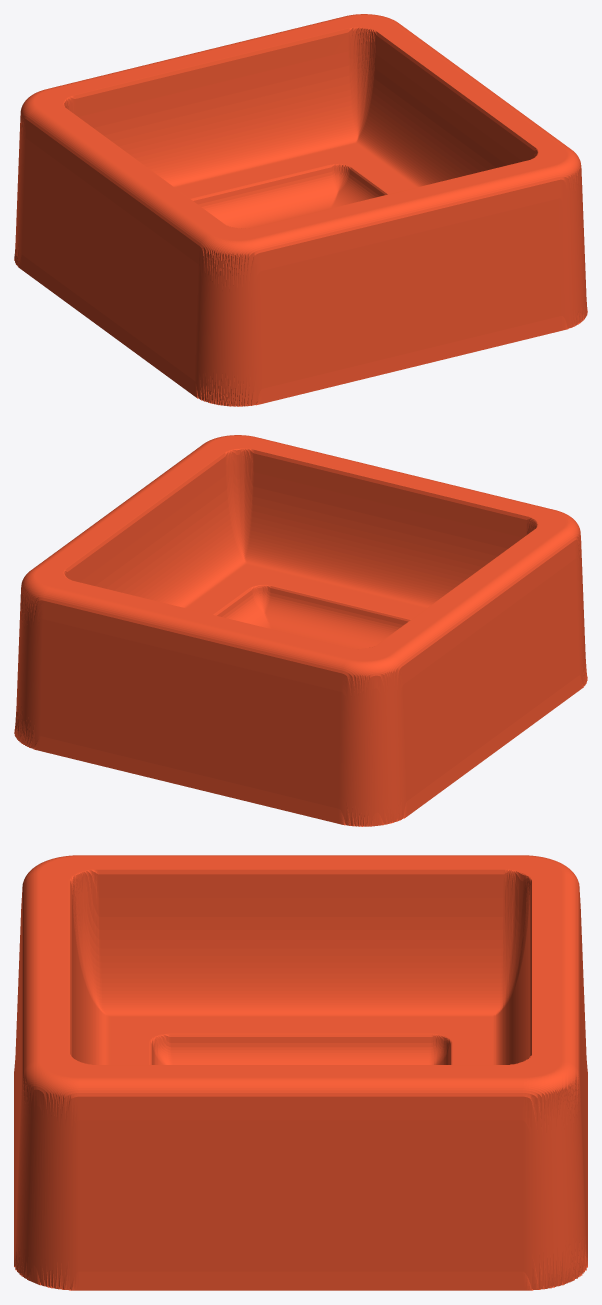
Rendered from mold.glb.
3 renders of one model, top to bottom at view 1: azimuth 30°, elevation 25°; view 2: azimuth 150°, elevation 25°; view 3: azimuth 270°, elevation 25°, orthographic. The views are drawn at different scales.
Visible parts, largest first — view 1: geometry_0; view 2: geometry_0; view 3: geometry_0.
Part boxes in pixels (bbox=[...]): geometry_0: bbox=[14, 14, 587, 406]; geometry_0: bbox=[14, 435, 587, 826]; geometry_0: bbox=[14, 855, 587, 1290].
Size of the model in its own units: 0.0798 by 0.031 by 0.0798.
